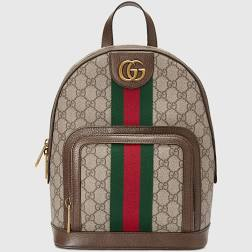Gucci: (51, 17, 212, 246), (101, 44, 158, 238), (164, 66, 196, 124), (117, 54, 149, 89)
